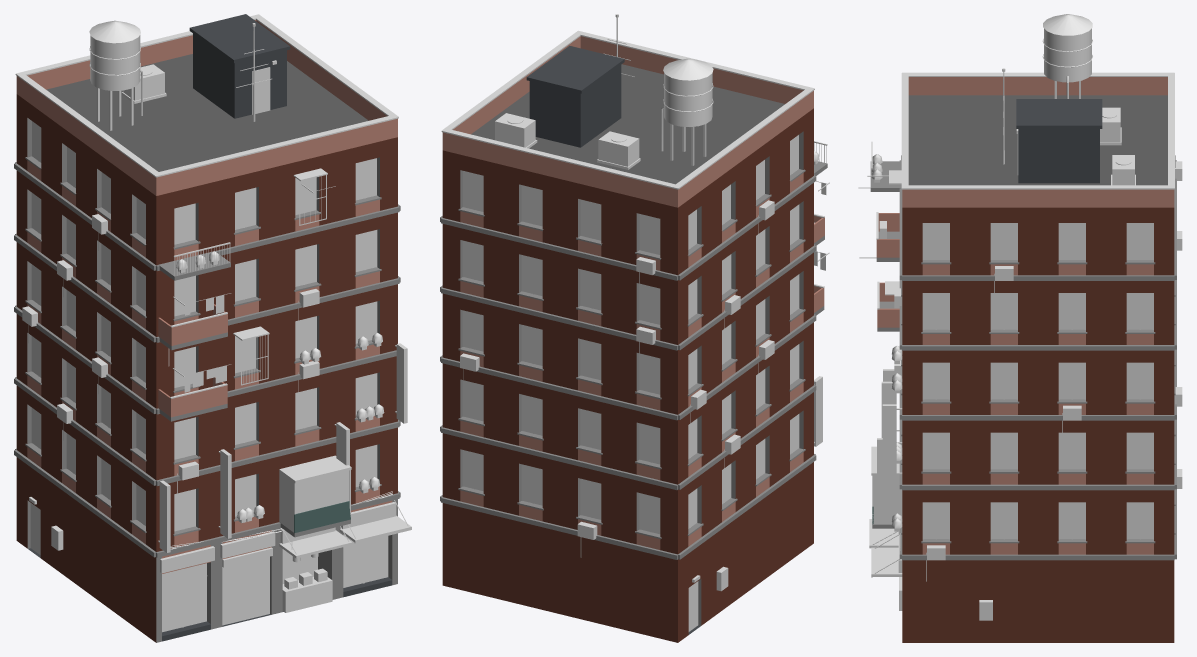
Rendered from LB_CW_House_A.fbx.
The picture shows the model from 3 angles, left to right: view 1: azimuth 30°, elevation 25°; view 2: azimuth 150°, elevation 25°; view 3: azimuth 270°, elevation 25°; orthographic projection. The views are drawn at different scales.
Visible parts, largest first — view 1: LB_CW_House_A_LOD0; view 2: LB_CW_House_A_LOD0; view 3: LB_CW_House_A_LOD0.
Boxes of the visible parts, x1,y1,x2,y2 form: LB_CW_House_A_LOD0: (14, 14, 411, 642); LB_CW_House_A_LOD0: (440, 14, 829, 642); LB_CW_House_A_LOD0: (858, 14, 1182, 642).
Size of what is drawn, in the model's own units: 12.73 by 26.01 by 14.31.
